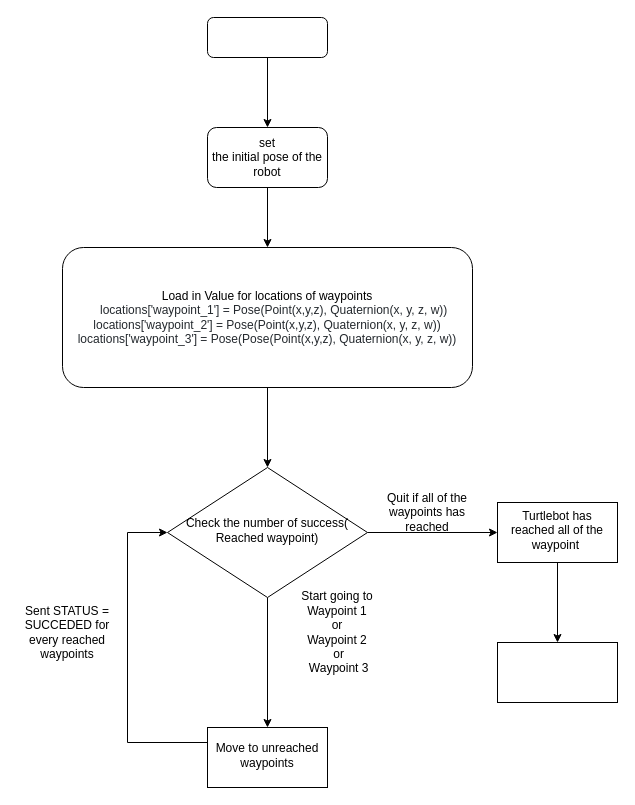
Some shapes in this 635 by 805 pixel diagram are drawn without their labels. Here are the shapes that lost their labels. From the top down, the centre of each, then its label:
(267,37): Start
(557,672): End
